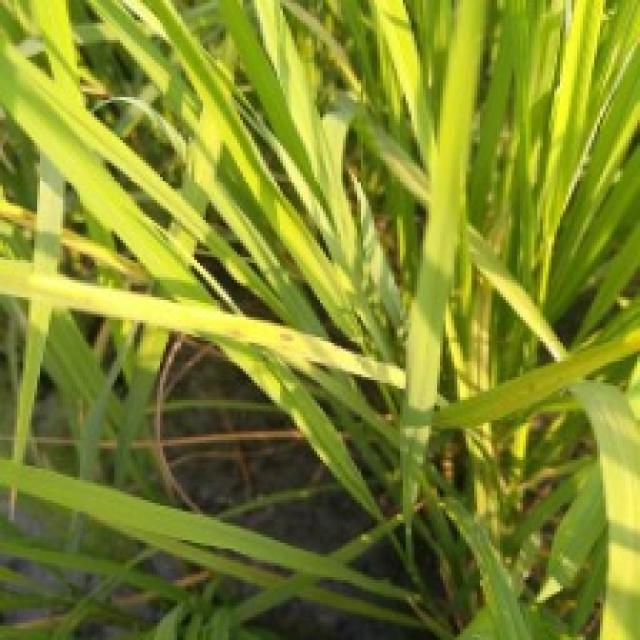Rice___Brown_Spot: (2, 263, 405, 389)
